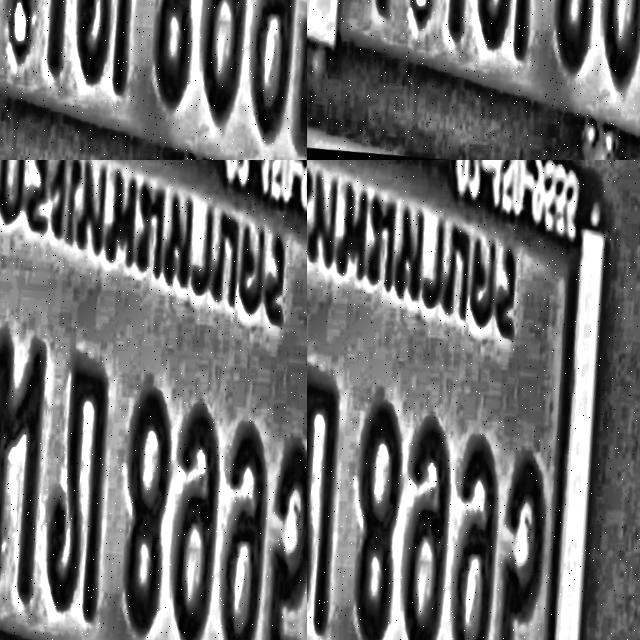license-plate: (307, 160, 640, 640)
